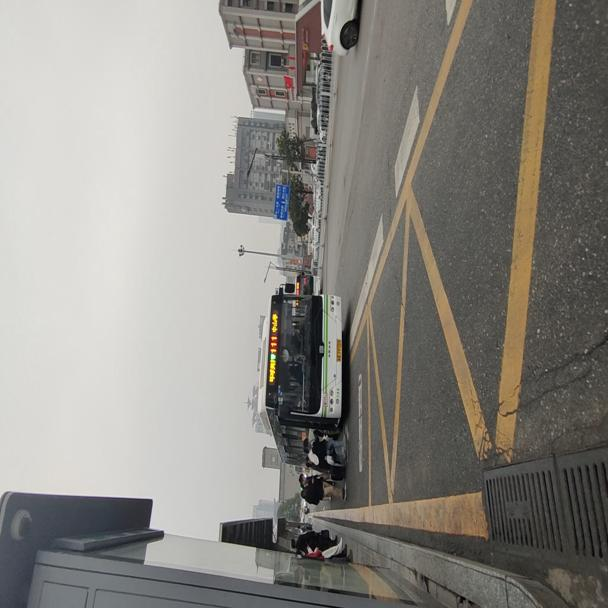bus: (253, 281, 344, 465)
screen: (266, 333, 277, 355)
